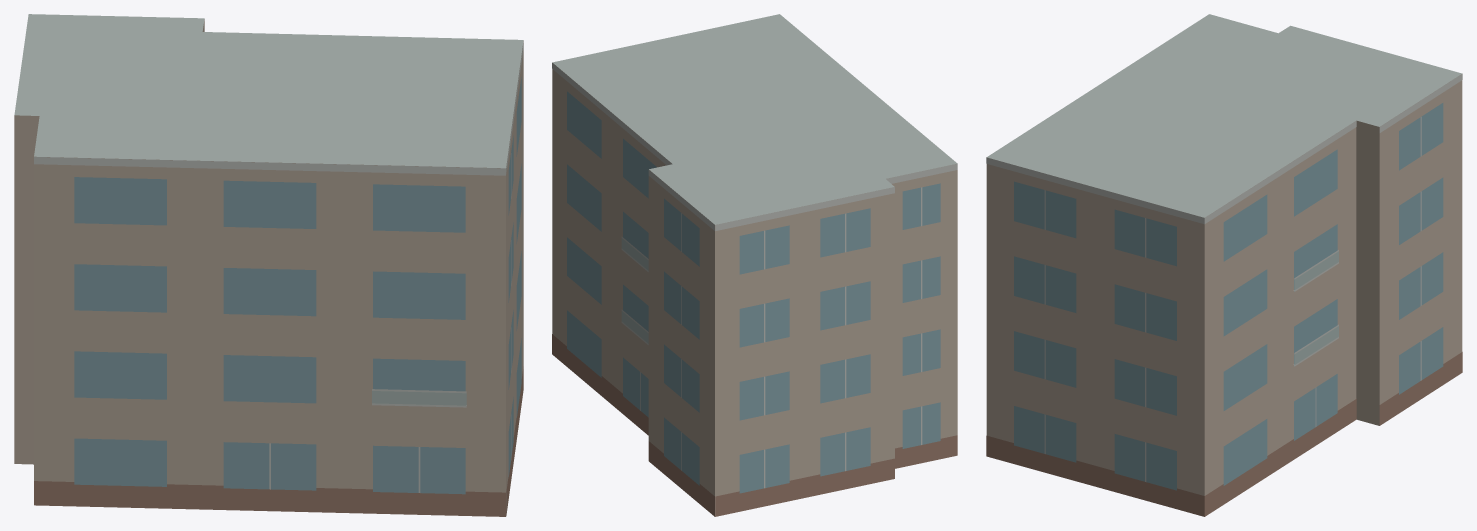
The model's file is survey-upis-32613195.glb.
The picture shows the model from 3 angles, left to right: view 1: azimuth 30°, elevation 25°; view 2: azimuth 150°, elevation 25°; view 3: azimuth 270°, elevation 25°; orthographic projection. The views are drawn at different scales.
Parts seen in each view (by area): view 1: survey-upis-32613195.tmp; view 2: survey-upis-32613195.tmp; view 3: survey-upis-32613195.tmp.
Boxes of the visible parts, x1,y1,x2,y2 form: survey-upis-32613195.tmp: [14, 14, 523, 516]; survey-upis-32613195.tmp: [552, 14, 957, 516]; survey-upis-32613195.tmp: [986, 14, 1462, 516].
Bounding box in the file's own units: 16.53 × 11.3 × 16.31.
